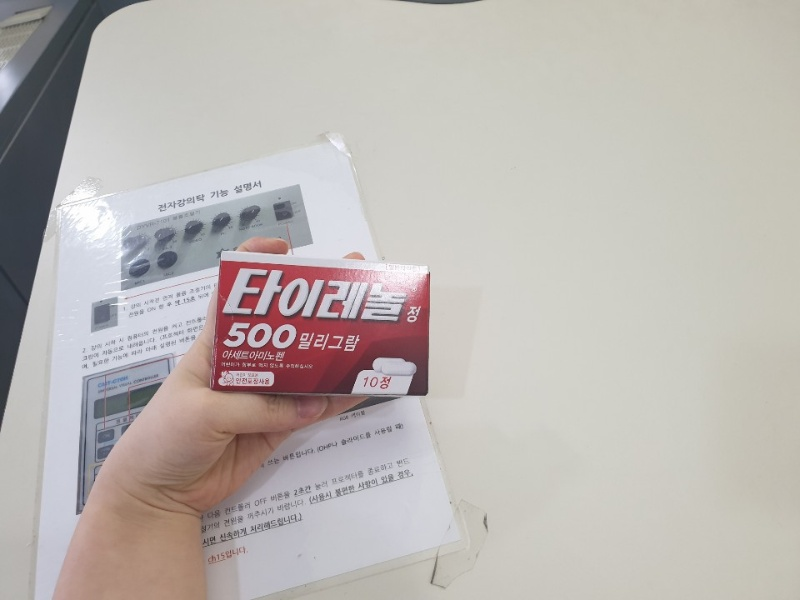tylenol: (218, 249, 429, 397)
